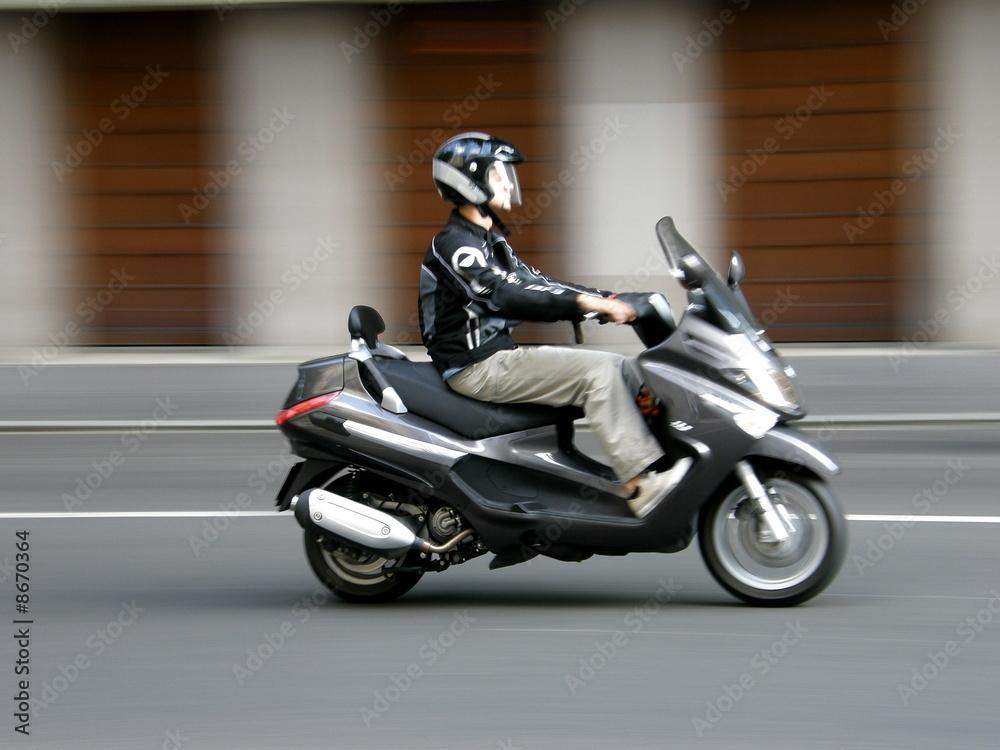helmet: (432, 131, 527, 238)
